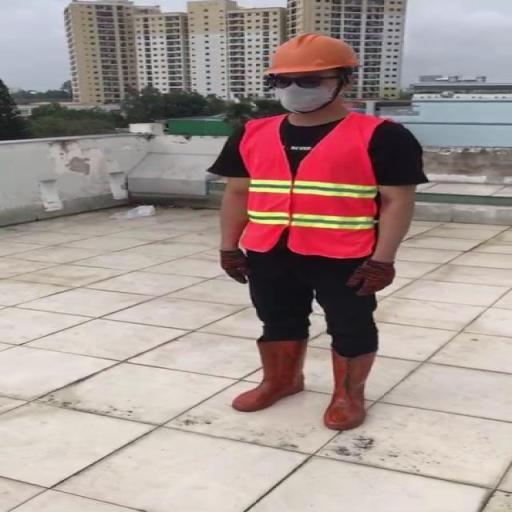Person: (188, 16, 440, 434)
boots: (222, 322, 318, 424), (322, 332, 380, 438)
gloves: (345, 255, 403, 300), (214, 239, 260, 288)
goggles: (263, 57, 350, 95)
helmet: (258, 28, 370, 78)
vest: (232, 110, 398, 268)
